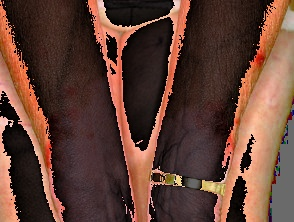vitiligo: (31, 60, 137, 222), (149, 88, 239, 222)
